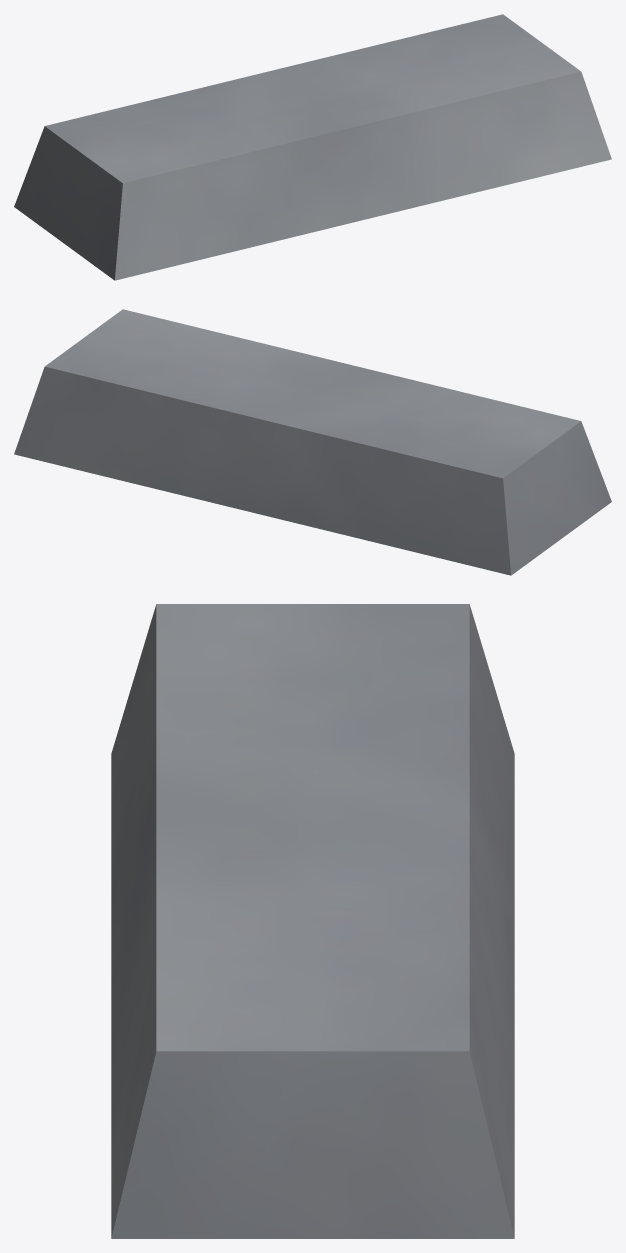
The model's file is iron.fbx.
The picture shows the model from 3 angles, top to bottom: view 1: azimuth 30°, elevation 25°; view 2: azimuth 150°, elevation 25°; view 3: azimuth 270°, elevation 25°; orthographic projection. The views are drawn at different scales.
Visible parts, largest first — view 1: iron; view 2: iron; view 3: iron.
Boxes of the visible parts, x1,y1,x2,y2 form: iron: (14, 14, 611, 280); iron: (14, 309, 611, 575); iron: (111, 604, 514, 1238).
Bounding box in the file's own units: 0.6784 × 0.1099 × 0.2383.
1 material, 1 textured.
